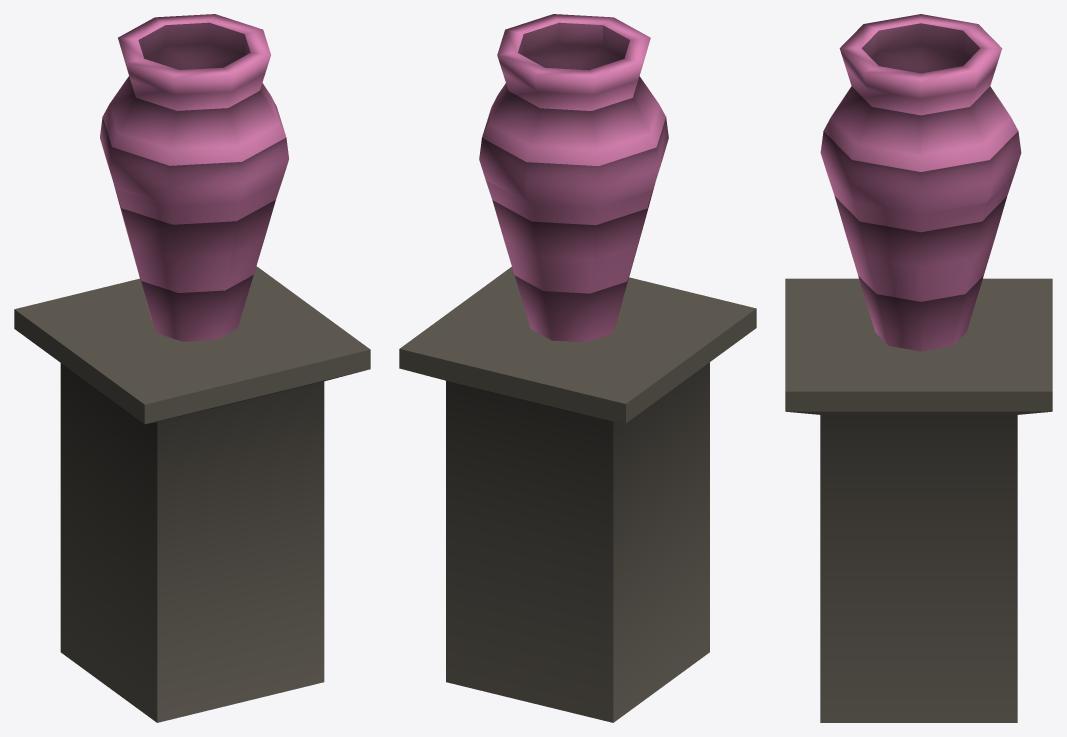
Rendered from LivingRoom_1.fbx.
The picture shows the model from 3 angles, left to right: view 1: azimuth 30°, elevation 25°; view 2: azimuth 150°, elevation 25°; view 3: azimuth 270°, elevation 25°; orthographic projection. The views are drawn at different scales.
Visible parts, largest first — view 1: Plane.006; view 2: Plane.006; view 3: Plane.006.
Part boxes in pixels (x1,y1,x2,y2): Plane.006: (14,14,370,722); Plane.006: (399,14,756,722); Plane.006: (785,14,1052,722).
Bounding box in the file's own units: 143 × 374 × 143.
